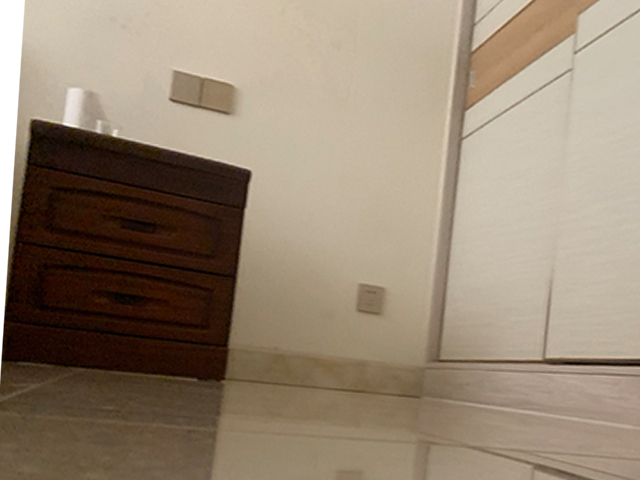cabinet: (424, 1, 640, 427), (5, 118, 254, 382)
